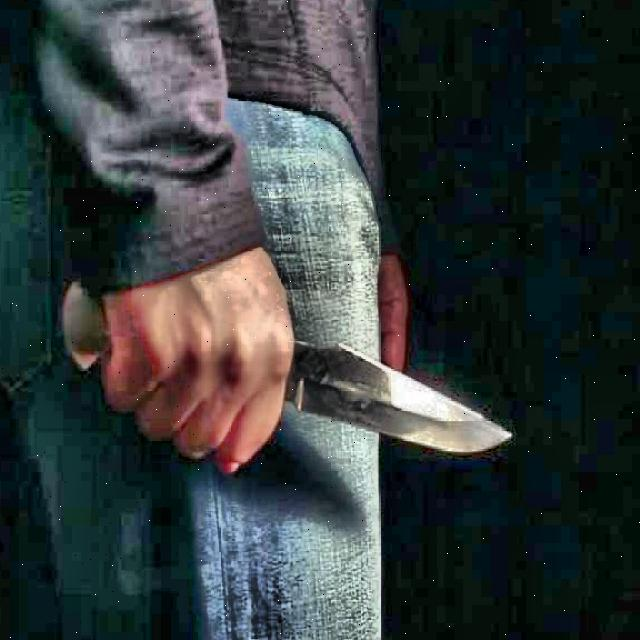knife: (62, 287, 514, 454)
